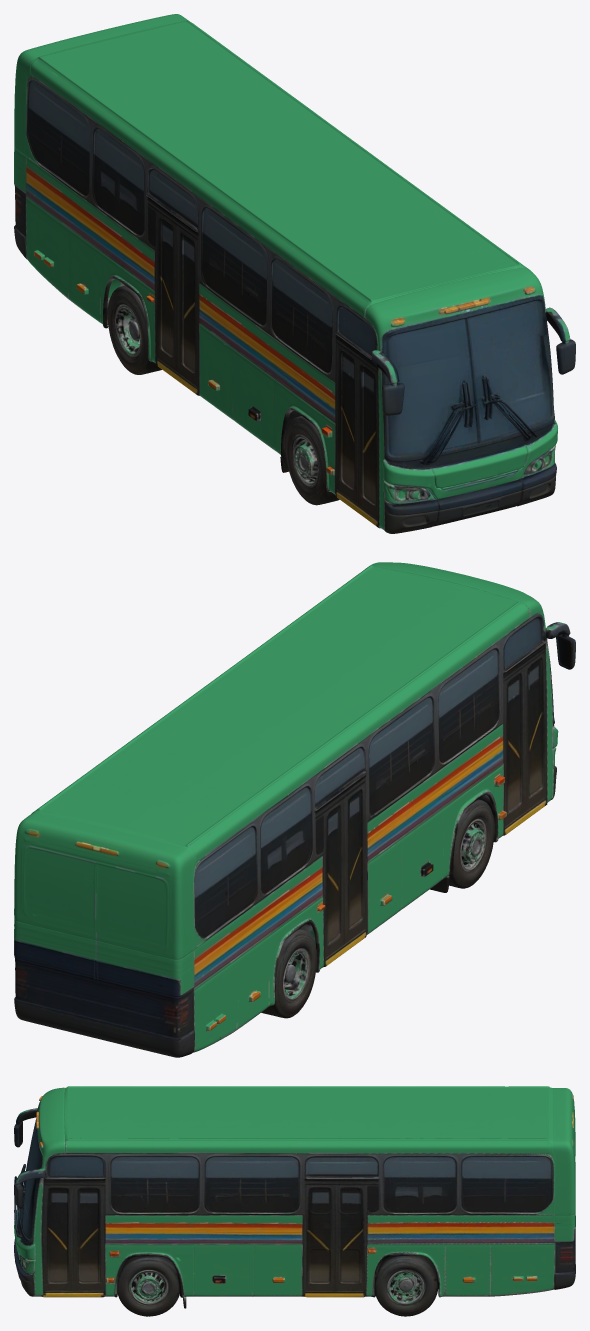
File: car-bus-green-v3.glb
3 views of the same model, one above another, from view 1: azimuth 30°, elevation 25°; view 2: azimuth 150°, elevation 25°; view 3: azimuth 270°, elevation 25° (orthographic). The views are drawn at different scales.
Parts seen in each view (by area): view 1: node_0; view 2: node_0; view 3: node_0.
Part boxes in pixels (x1,y1,x2,y2): node_0: (14, 14, 575, 533); node_0: (14, 562, 575, 1057); node_0: (14, 1086, 575, 1316).
Size of the model in its own units: 0.324 by 0.3901 by 1.13.
Materials: 1 (1 with a texture image).
